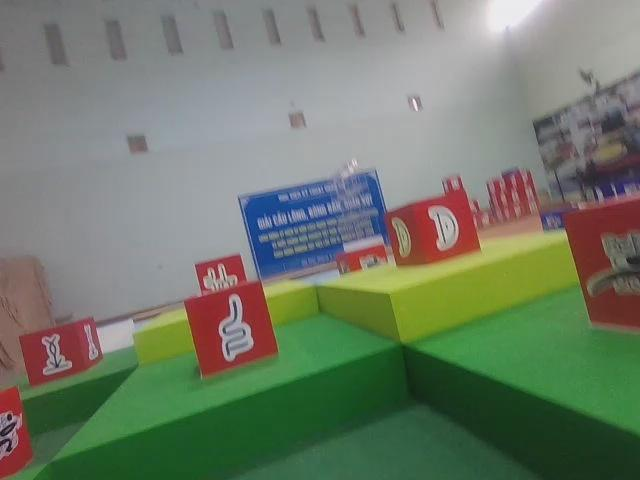R1: (559, 189, 640, 332)
R2 Fake: (181, 278, 280, 379)
R2 Real: (383, 185, 485, 270), (17, 313, 105, 390), (191, 249, 252, 305)
